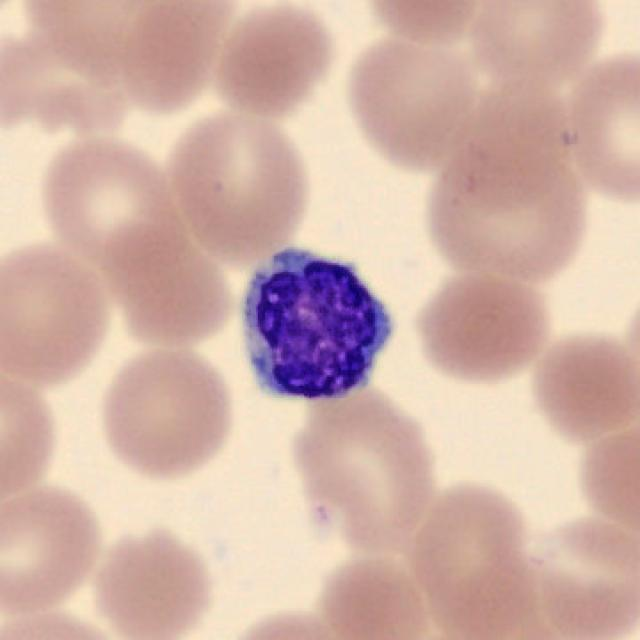Linfocito: (242, 249, 393, 400)
